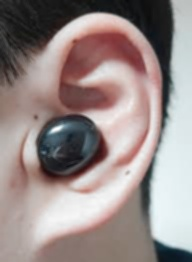earphone: (11, 12, 163, 249)
